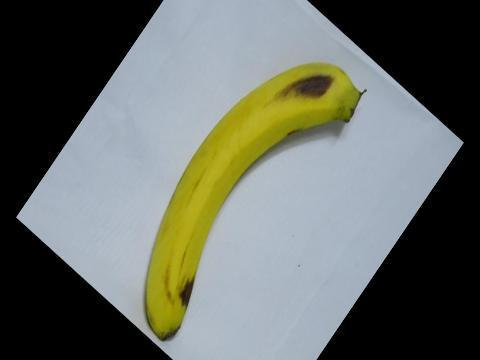freshripe: (131, 48, 378, 359)
